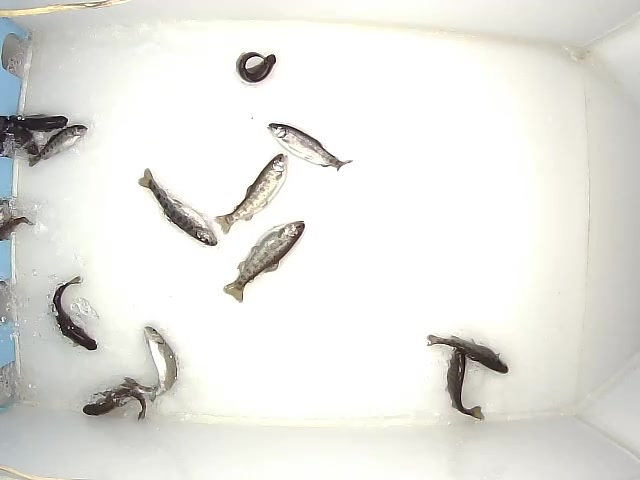fish: (220, 216, 310, 304), (136, 167, 216, 250), (212, 151, 291, 233), (120, 323, 184, 400), (268, 123, 353, 176), (422, 330, 512, 376), (48, 273, 99, 353), (442, 345, 486, 420), (25, 123, 89, 168), (81, 385, 147, 421), (233, 47, 278, 83)
